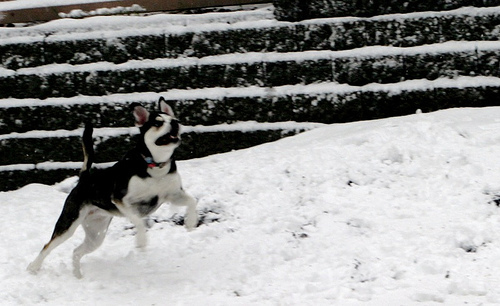dog: (28, 95, 199, 280)
